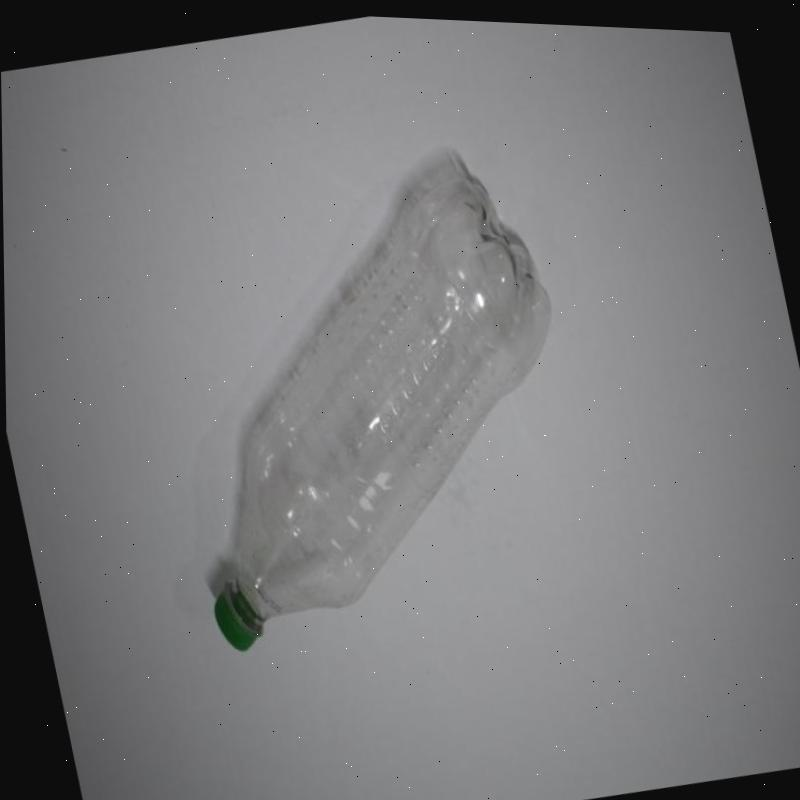botella: (129, 132, 608, 667)
